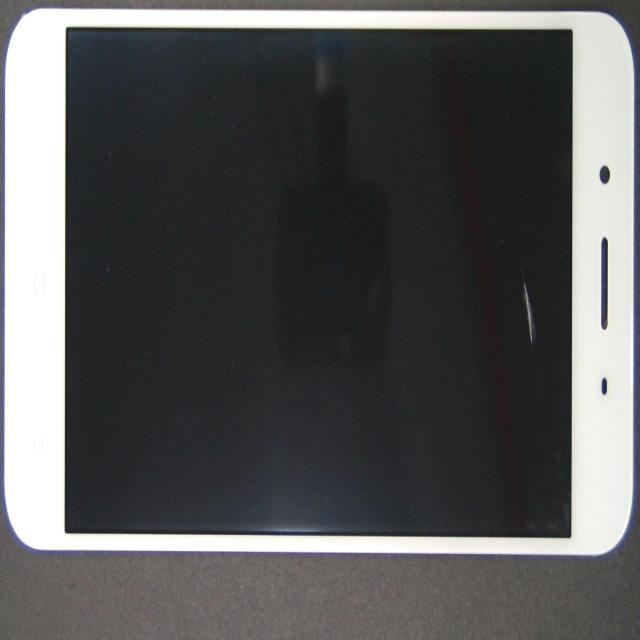scratch: (253, 79, 640, 442)
